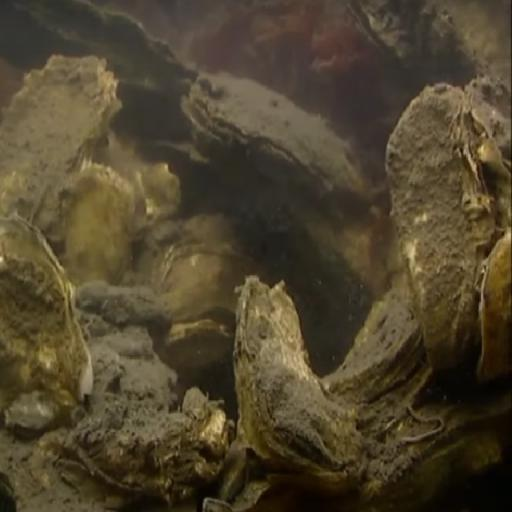Oyster-Closed: (390, 86, 492, 373), (235, 280, 365, 478), (185, 75, 366, 212), (326, 284, 422, 408), (66, 160, 135, 287), (157, 245, 256, 322), (480, 230, 512, 385), (162, 320, 239, 375)
Oyster-Open: (1, 53, 122, 229), (1, 216, 93, 418)
